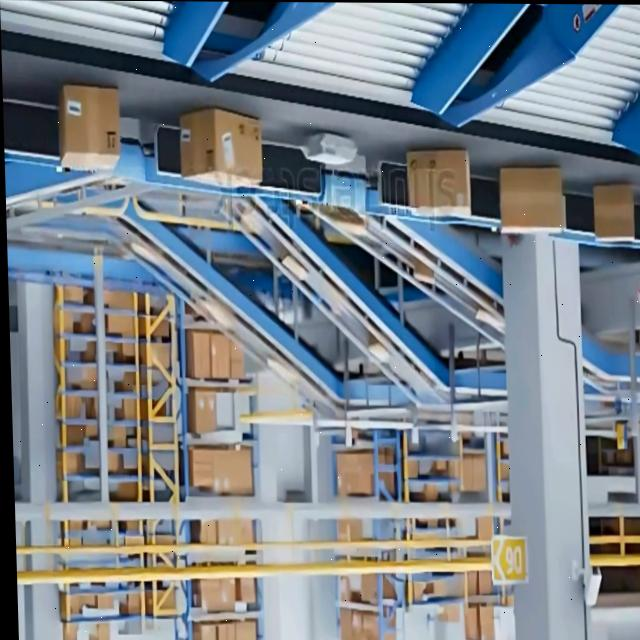product 1: (178, 107, 265, 190), (406, 148, 472, 220), (498, 166, 566, 235)
product 2: (301, 132, 359, 167)
